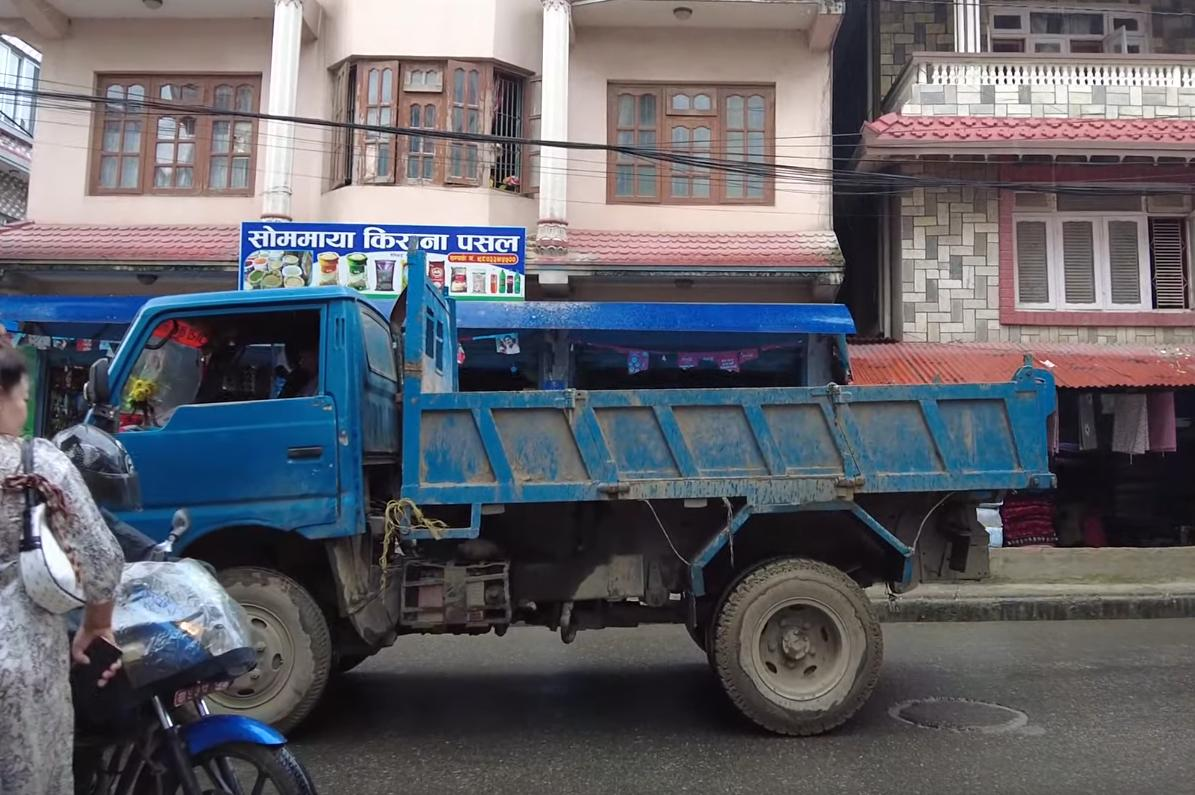bike: (40, 425, 310, 795)
mini_truck: (70, 246, 1077, 739)
